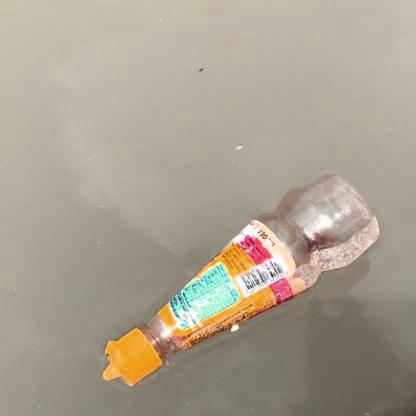Glass: (100, 168, 383, 390)
